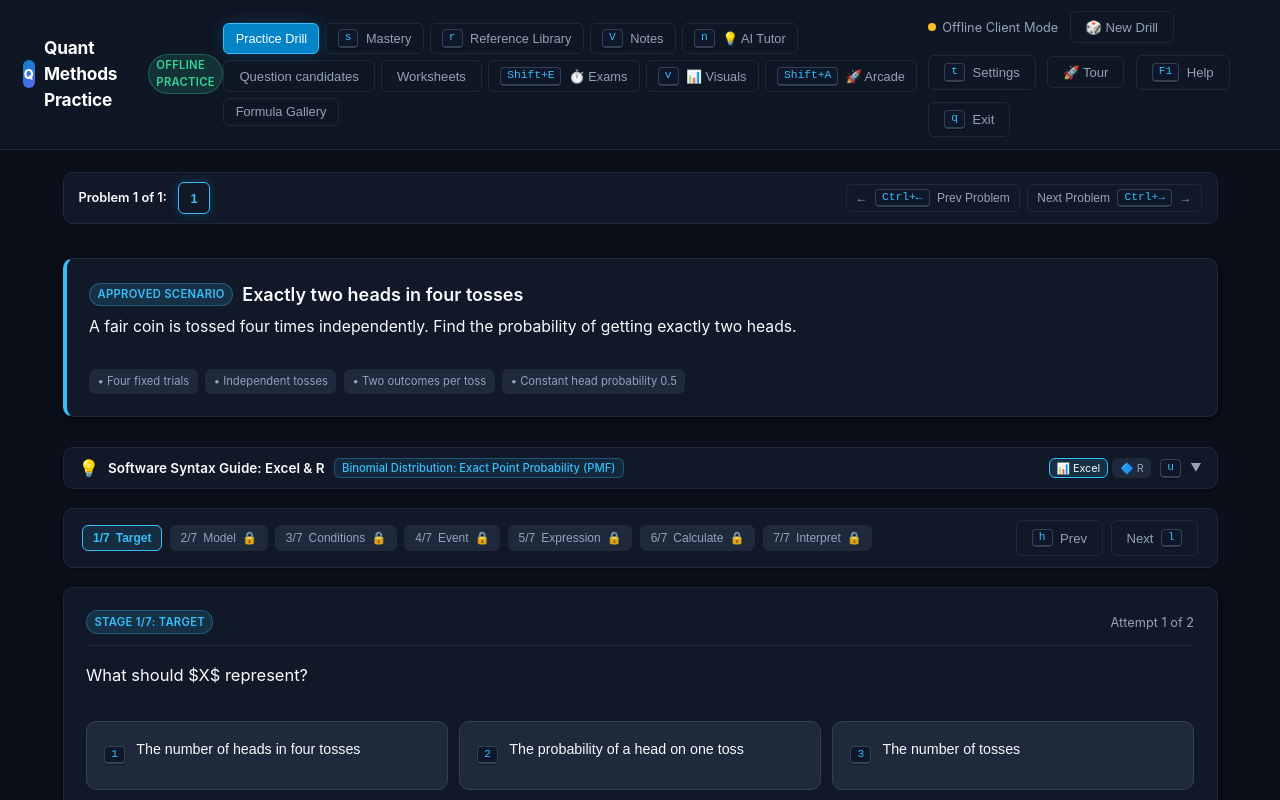
Test: App Shell › allows reopening product tour from header button and from Help modal
This screenshot has width=1280, height=800.
# Click header "🚀 Tour" button
Click the button "🚀 Tour" at (1086, 72), box [1047, 56, 1124, 88]
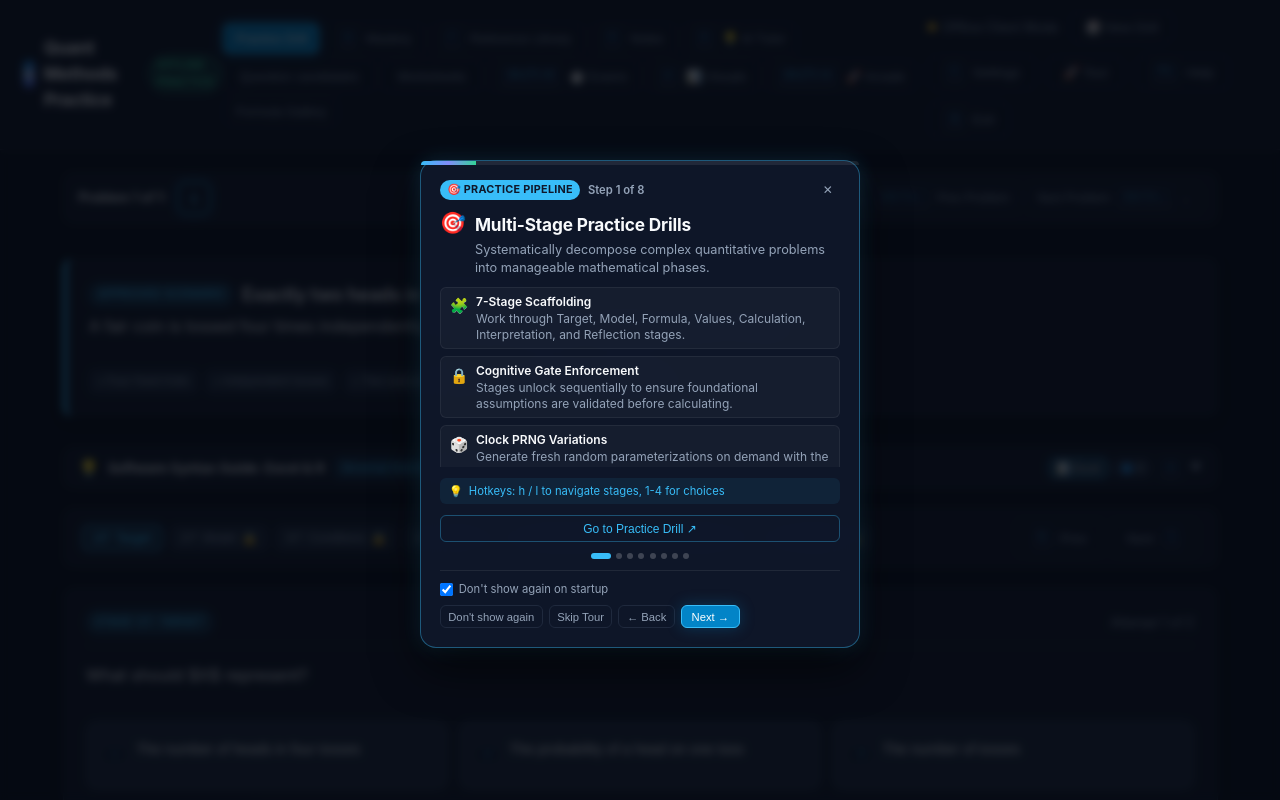
Check: the dialog named "Quant Methods Product Tour" is shown
# Close tour via Skip Tour
Click the button "Skip Tour" at (581, 617), box [549, 606, 612, 628]
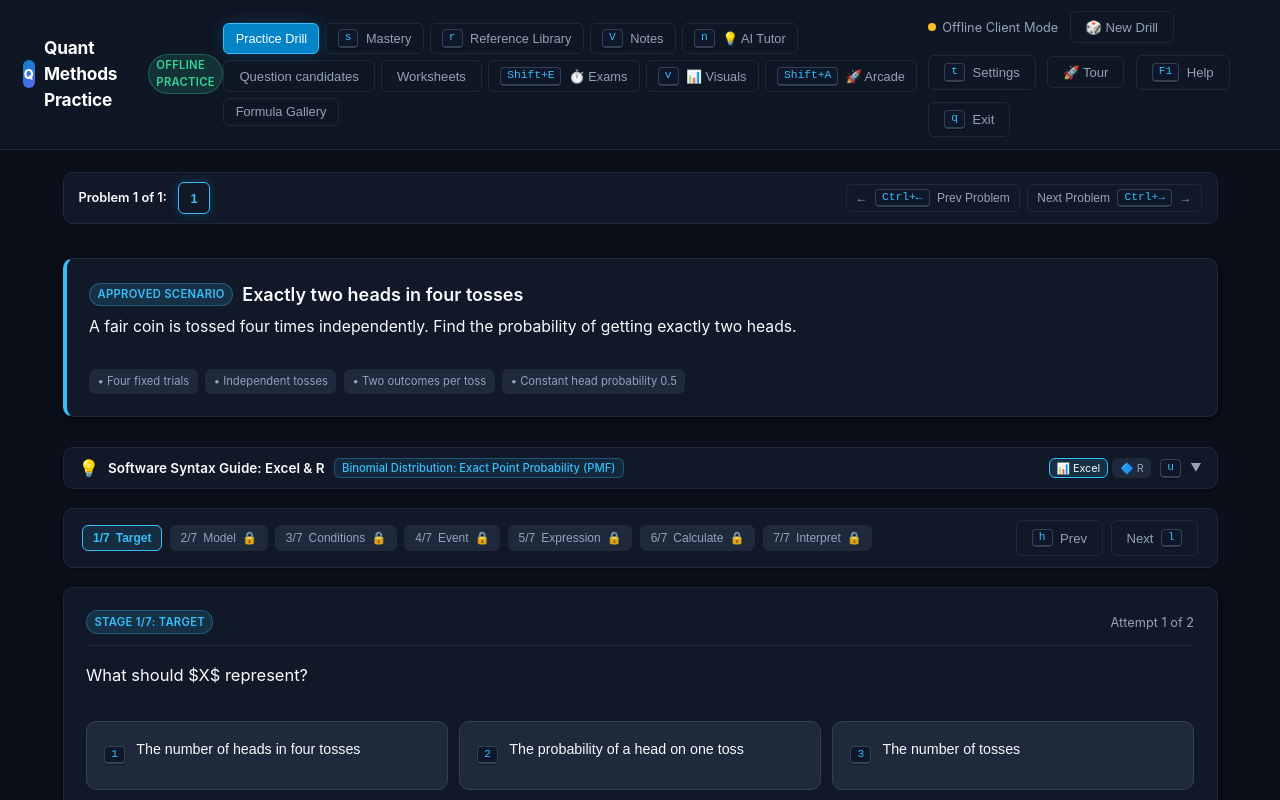
# Open Help modal via F1
Press F1
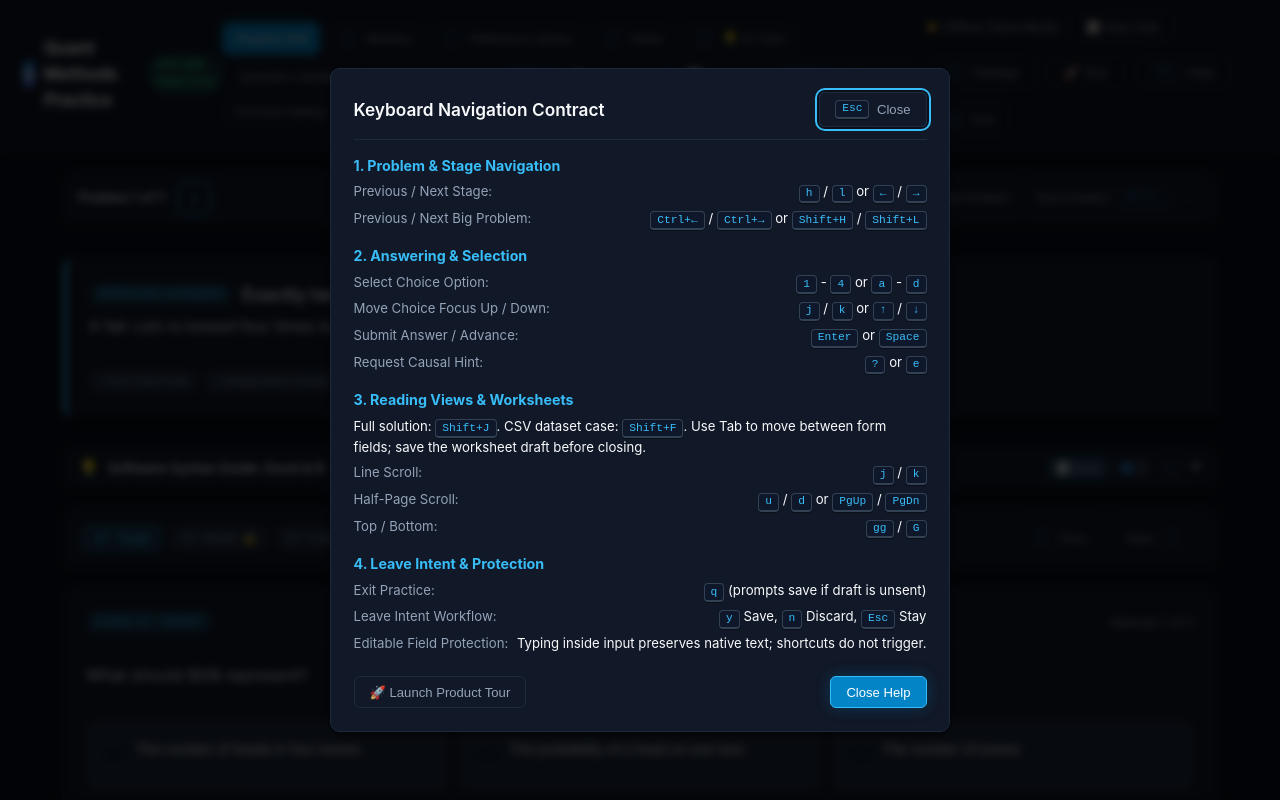
Check: the dialog named "Keyboard Shortcuts" is shown
# Click "Launch Product Tour" inside Help modal
Click the button "🚀 Launch Product Tour" at (440, 692), box [354, 676, 526, 708]
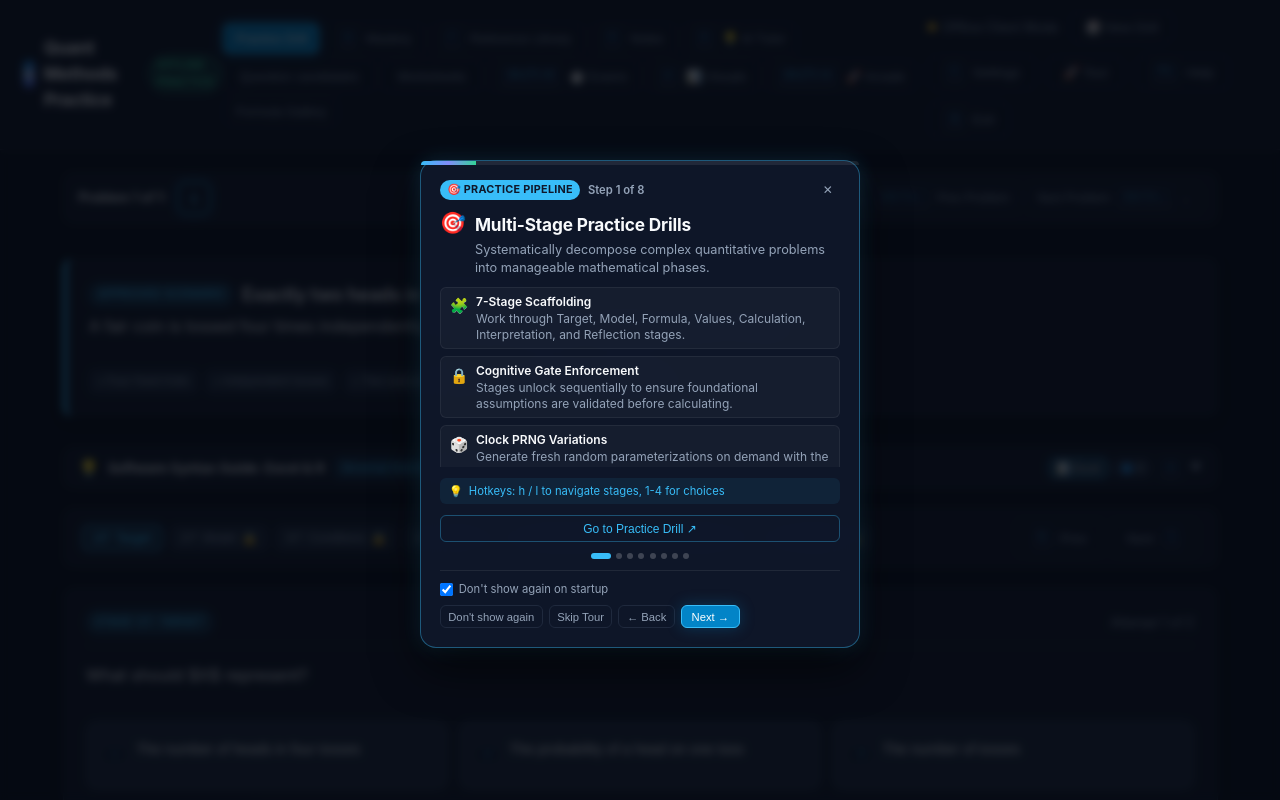
Check: the dialog named "Quant Methods Product Tour" is shown
